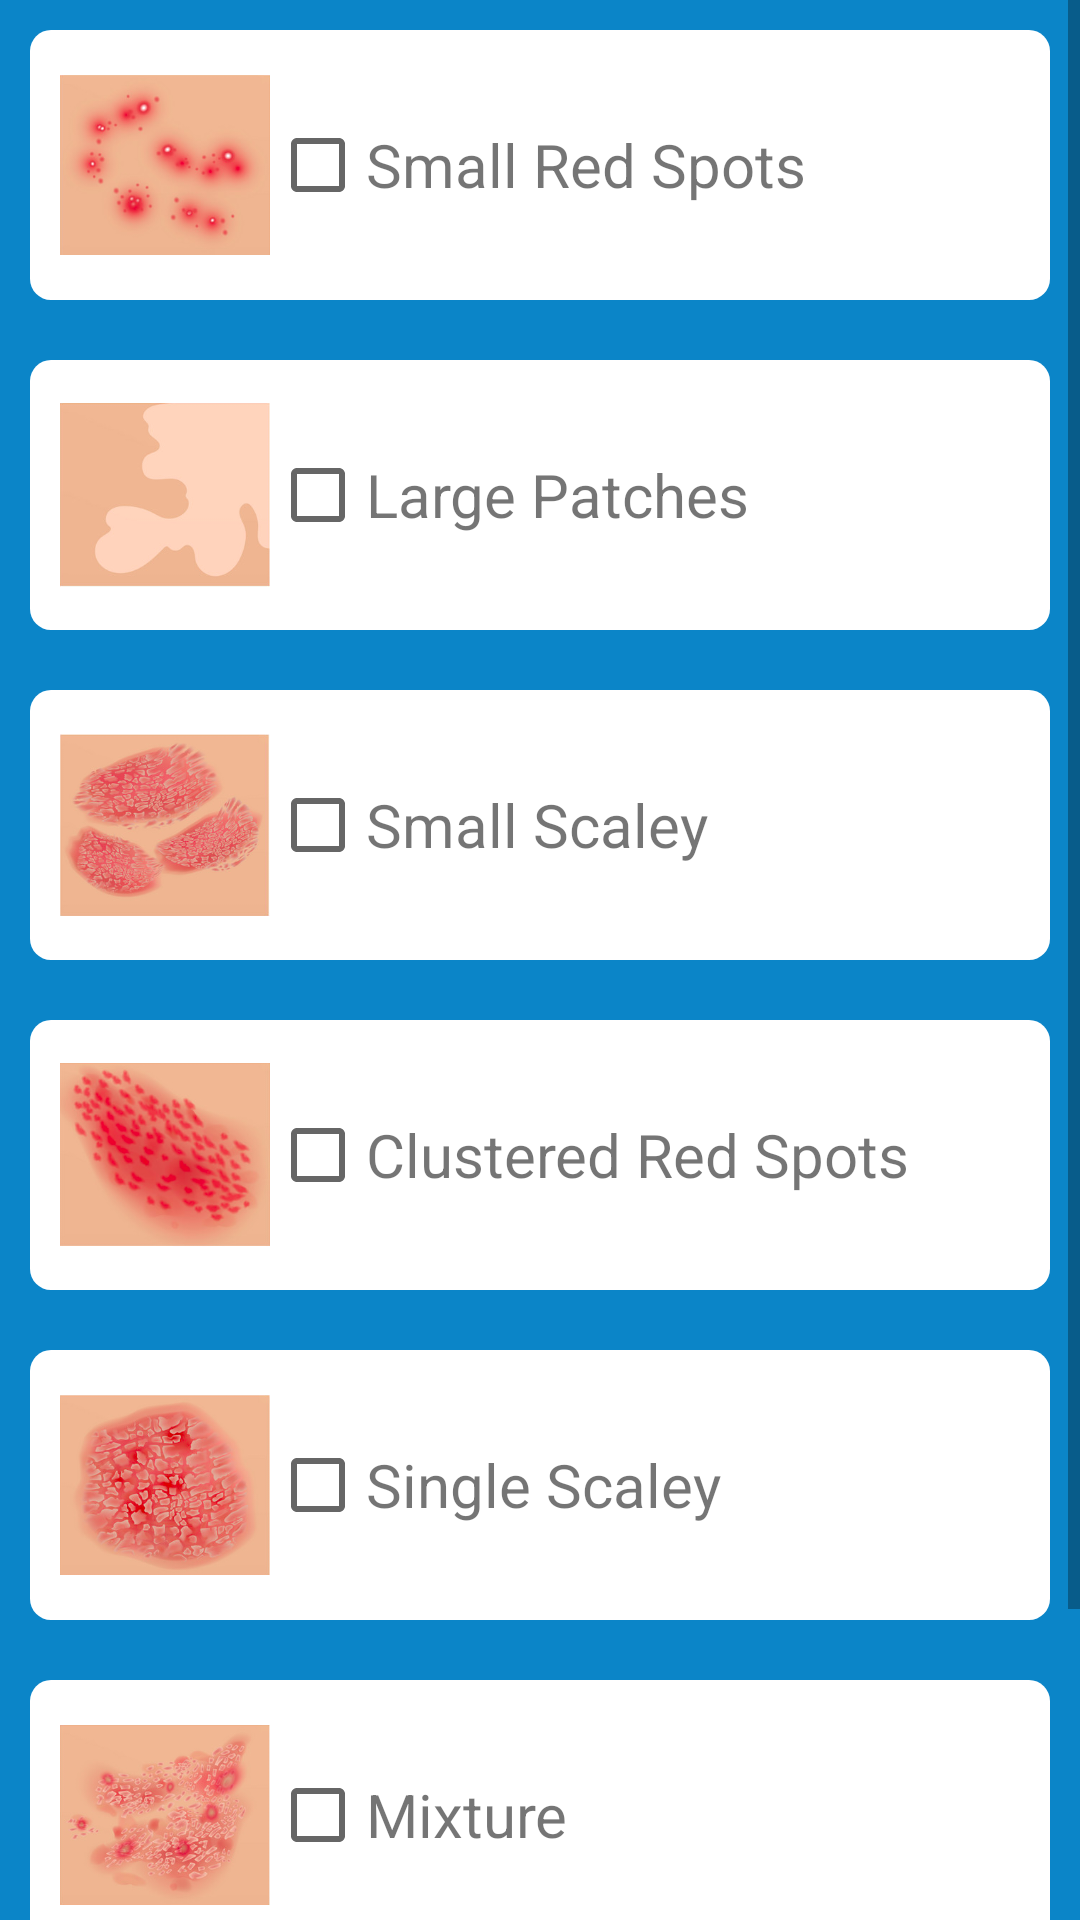

Locate icon controls on the screen. Image size 1080px x 1920px, boxes as (x1, y1, x2, y2).
ind bumps: (60, 75, 270, 255)
multiple scaley: (60, 734, 269, 916)
